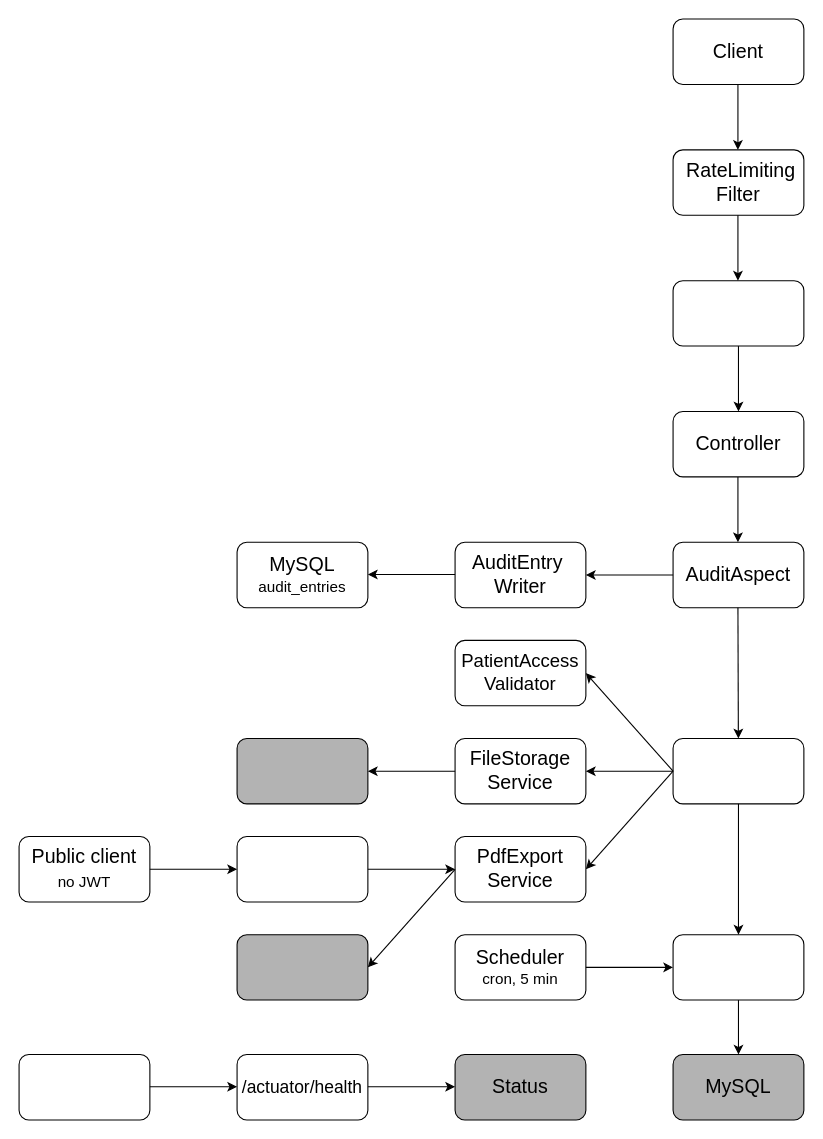
This 823x1139 diagram has some shape labels left out. Here are the shapes that lost their labels. From the top down, the centre of each, then its label:
At point 738,313: "JWT Filter".
At point 302,770: "MinIO / S3".
At point 738,770: "Service".
At point 302,868: "ShareLink Controller".
At point 302,967: "PDF bytes".
At point 738,967: "Repository".
At point 84,1086: "Anyone no auth".
